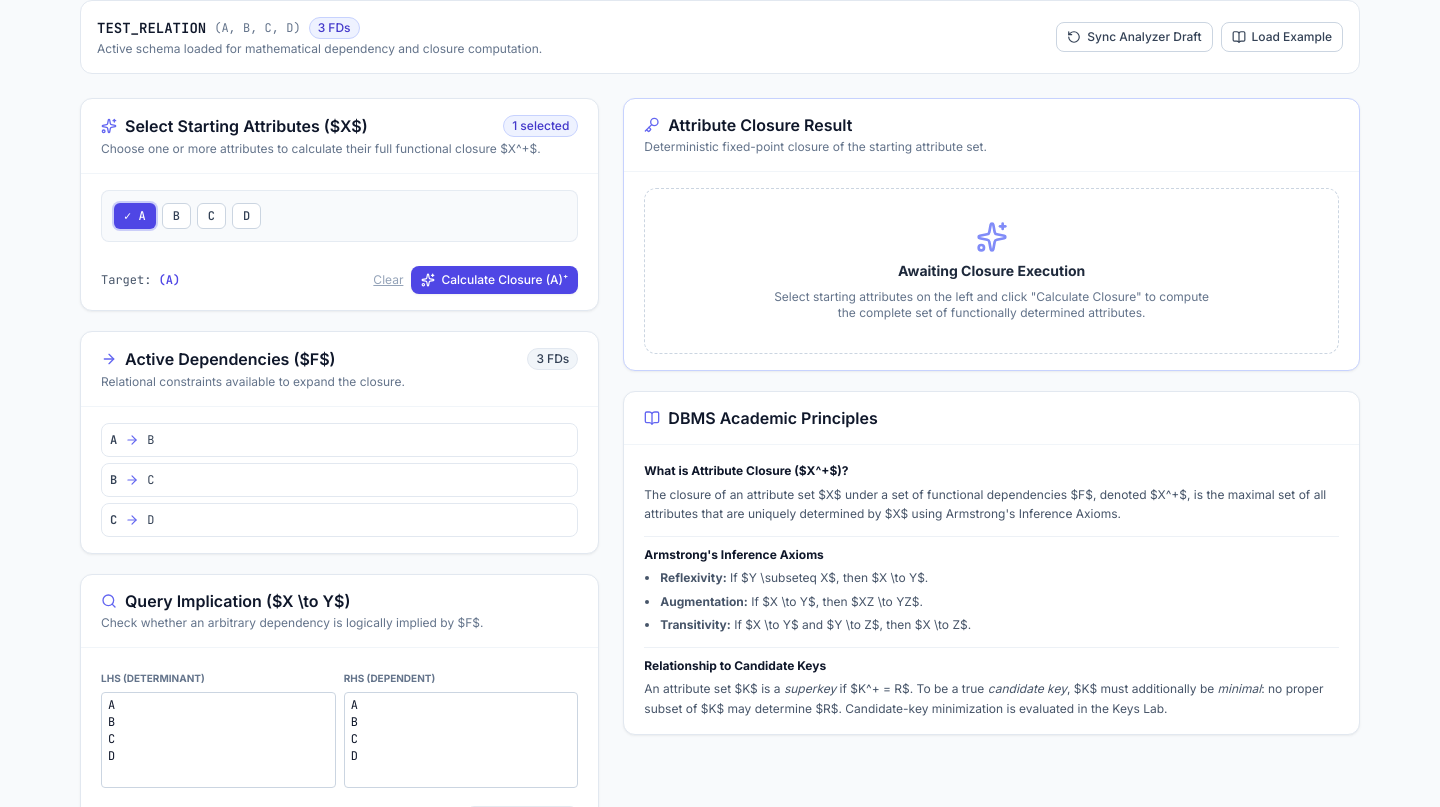
Scenario: ClosureLab Component (Phase 3) › toggles target attributes and updates target selection display
Expected: the text "Target: (A)" is shown, [101,272,180,288]
Click B to add to target
Click the button "B" at (176, 216), box [162,203,191,229]
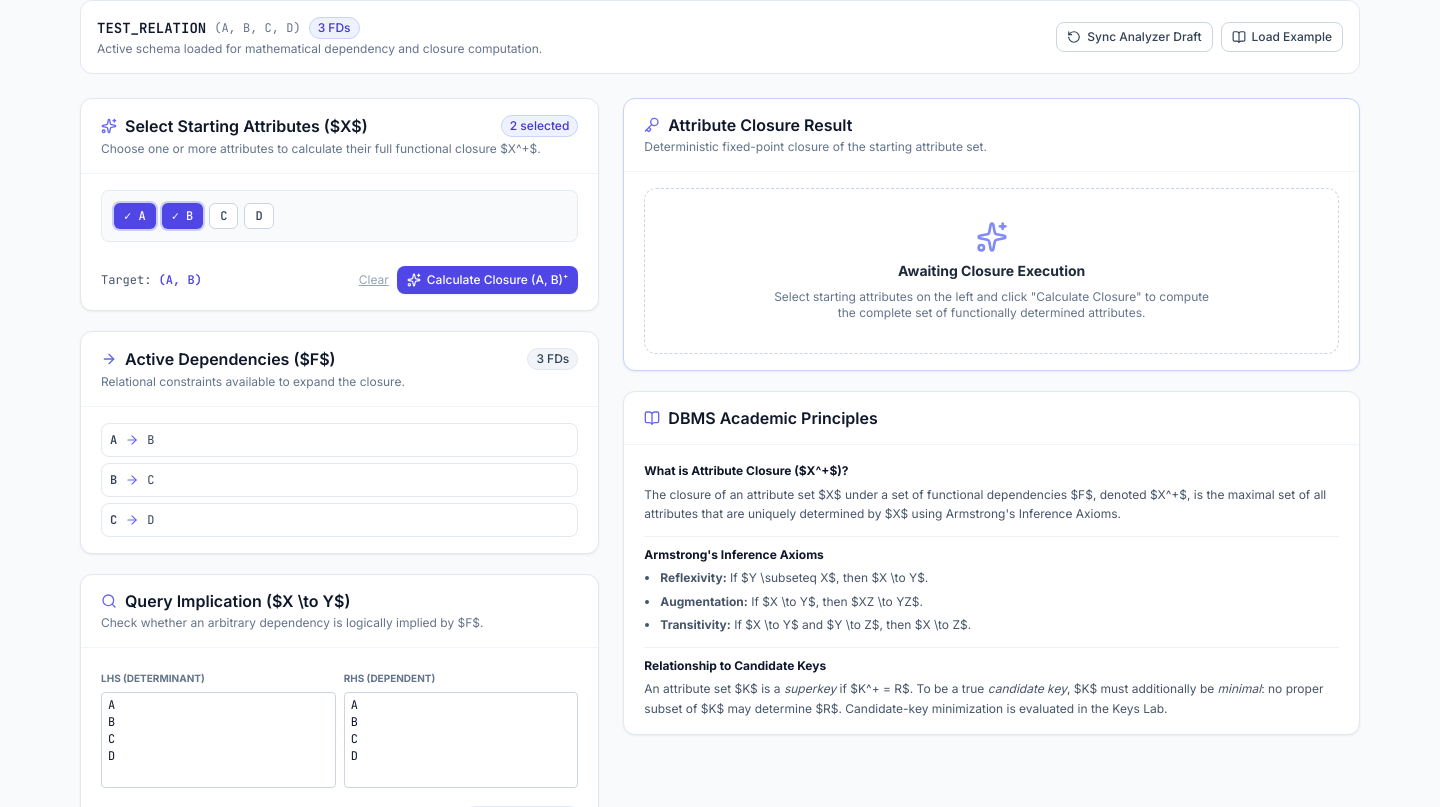
Expected: the button "✓ B" is shown, [162,203,203,229]
Click Clear
Click the button "Clear" at (374, 280), box [359,272,389,288]
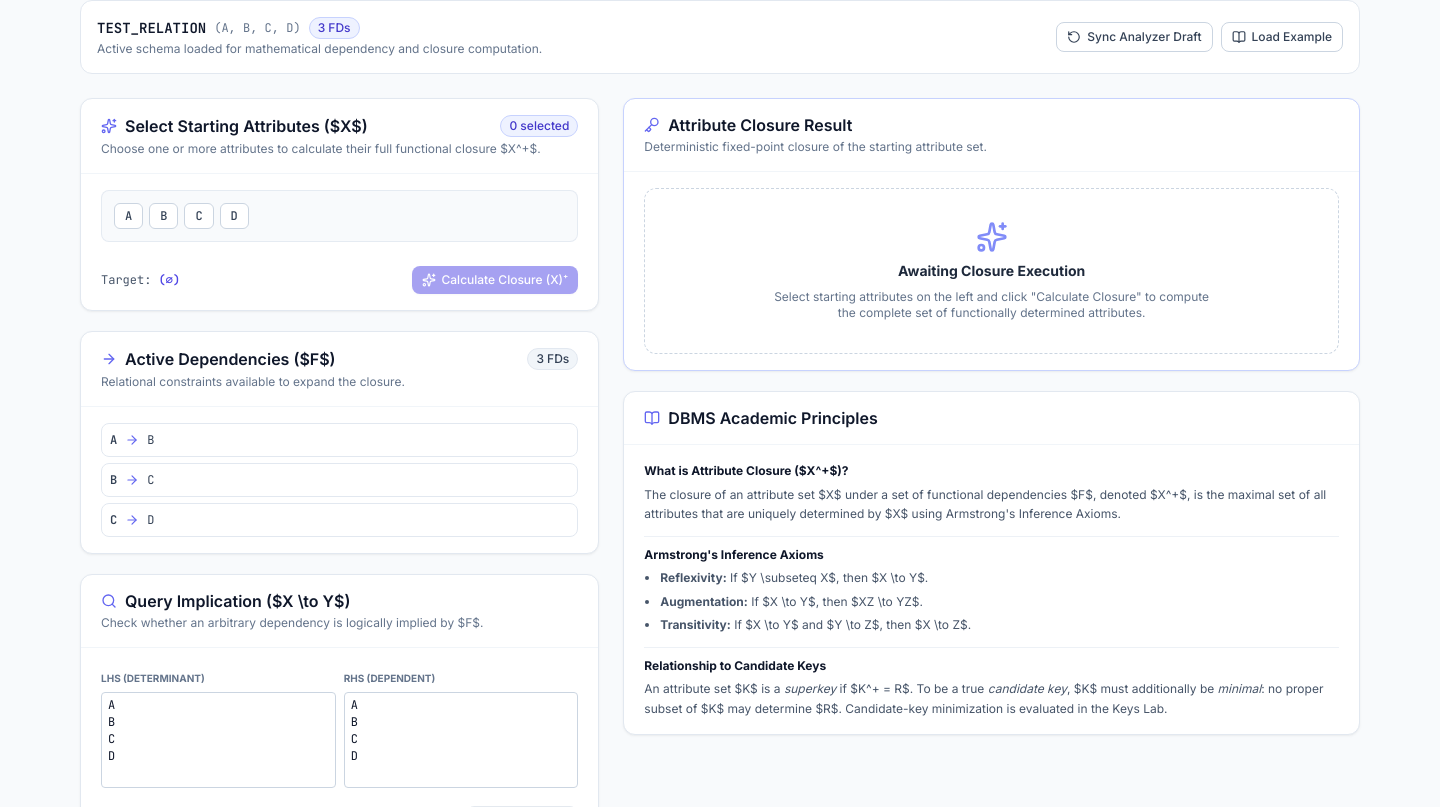
Expected: the button "Calculate Closure (X)⁺" is disabled, [412,266,578,294]
